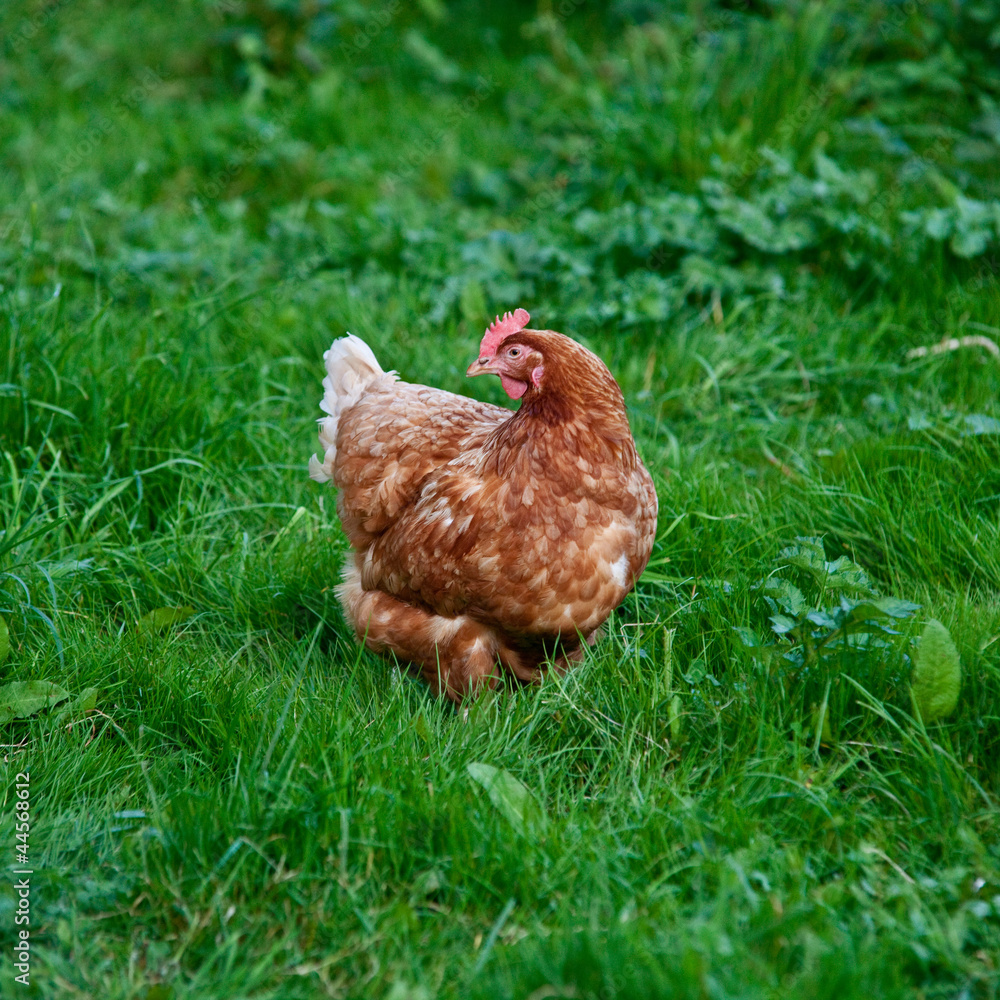buff: (310, 306, 658, 711)
